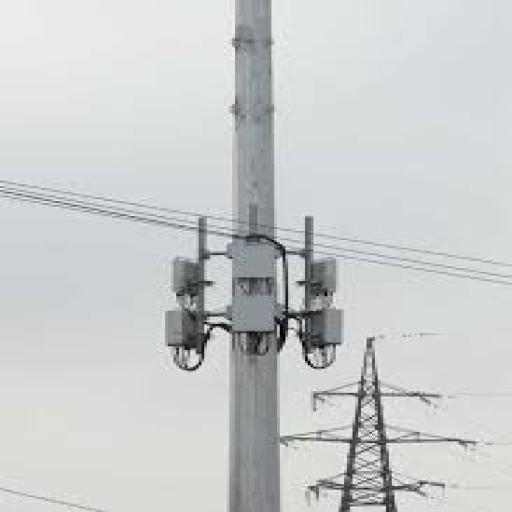odn_pole: (165, 0, 341, 510)
